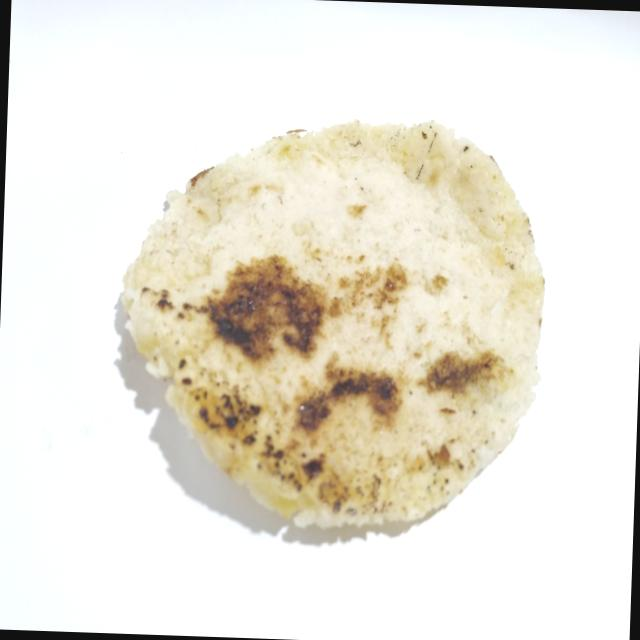Mbeju: (104, 102, 559, 560)
